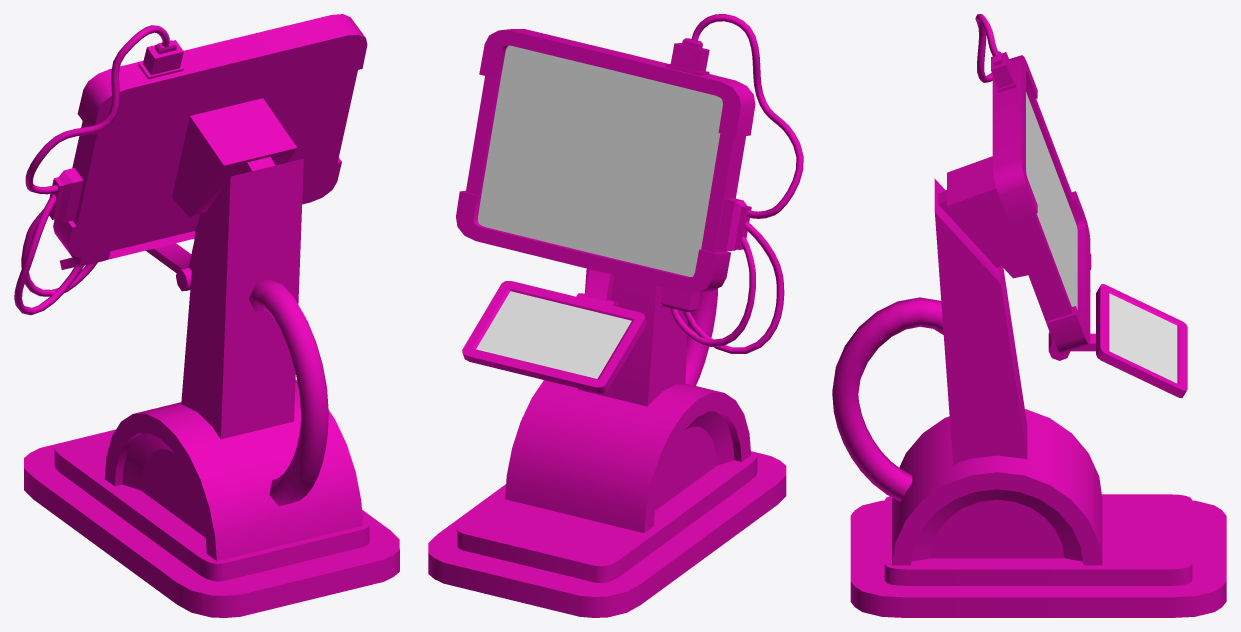
The model's file is SM_BordeSwapArme.fbx.
3 views of the same model, side by side, from view 1: azimuth 30°, elevation 25°; view 2: azimuth 150°, elevation 25°; view 3: azimuth 270°, elevation 25° (orthographic). The views are drawn at different scales.
Visible parts, largest first — view 1: BordSwap; view 2: BordSwap; view 3: BordSwap.
Part boxes in pixels (x1,y1,x2,y2): BordSwap: [14, 14, 399, 617]; BordSwap: [428, 14, 803, 617]; BordSwap: [832, 14, 1226, 617].
Size of the model in its own units: 0.9612 by 1.52 by 1.07.
